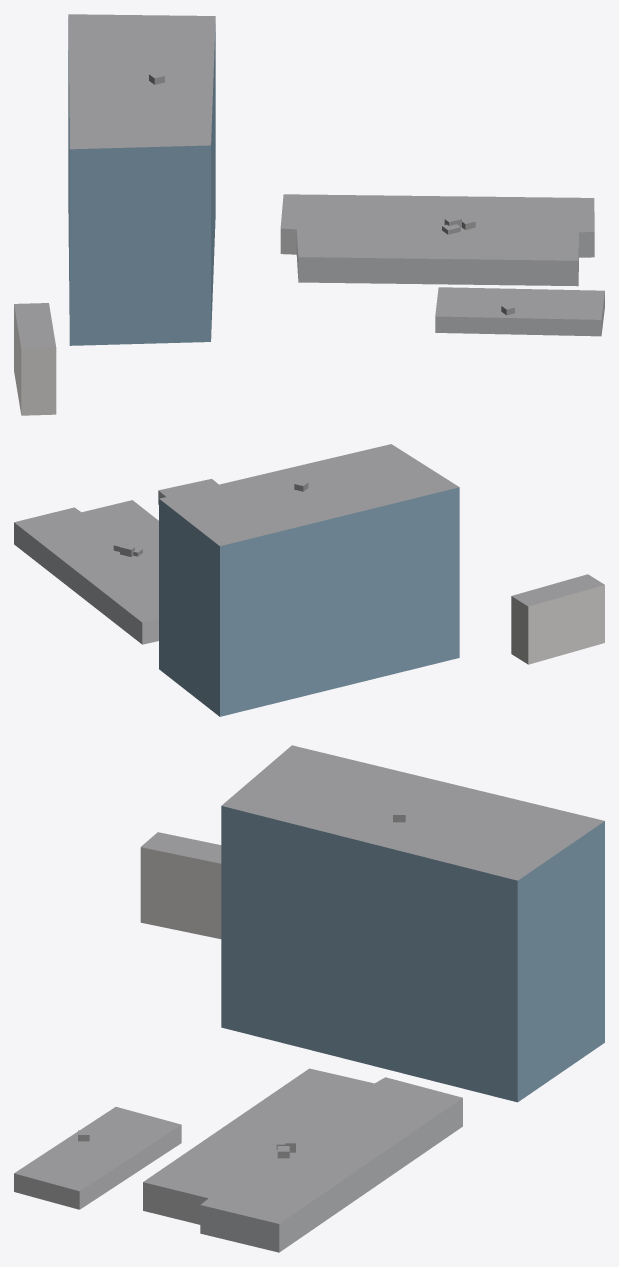
The model's file is building_2_-7.glb.
3 views of the same model, one above another, from view 1: azimuth 30°, elevation 25°; view 2: azimuth 150°, elevation 25°; view 3: azimuth 270°, elevation 25° (orthographic). The views are drawn at different scales.
Visible parts, largest first — view 1: roof, glass_blue, industrial, concrete_light; view 2: glass_blue, roof, concrete_light, industrial; view 3: glass_blue, roof, industrial, concrete_light.
Part boxes in pixels (x1,y1,x2,y2): roof: [14, 14, 604, 348]; glass_blue: [68, 17, 215, 345]; industrial: [280, 228, 604, 336]; concrete_light: [14, 305, 56, 415]; glass_blue: [159, 487, 459, 716]; roof: [14, 444, 604, 622]; concrete_light: [511, 585, 604, 664]; industrial: [14, 490, 165, 644]; glass_blue: [221, 806, 604, 1102]; roof: [14, 745, 604, 1223]; industrial: [14, 1098, 462, 1252]; concrete_light: [140, 847, 221, 938].
Bounding box in the file's own units: 134 × 41.32 × 96.63.
